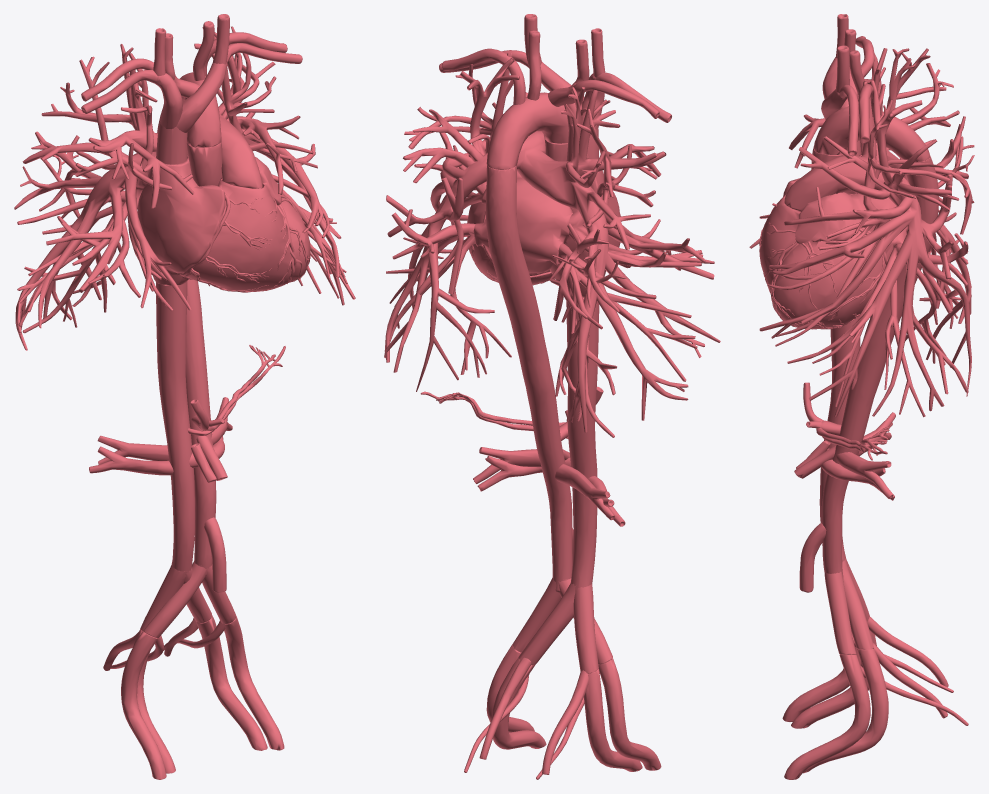
File: circulatorio.glb
3 views of the same model, side by side, from view 1: azimuth 30°, elevation 25°; view 2: azimuth 150°, elevation 25°; view 3: azimuth 270°, elevation 25° (orthographic). The views are drawn at different scales.
Parts seen in each view (by area): view 1: FMA66326, FMA7274, FMA66643, FMA10951, FMA3784, FMA18806, FMA18886, FMA18807, FMA4761, FMA14765, FMA3768, FMA3736 (+17 smaller); view 2: FMA66326, FMA66643, FMA3784, FMA7274, FMA10951, FMA3768, FMA18806, FMA18885, FMA21387, FMA21388, FMA18886, FMA4694 (+11 smaller); view 3: FMA66326, FMA66643, FMA7274, FMA3784, FMA18807, FMA3768, FMA18886, FMA10951, FMA14766, FMA21388, FMA18806, FMA18885 (+15 smaller).
Boxes of the visible parts, x1,y1,x2,y2 form: FMA66326: (14,27,355,350); FMA7274: (137,155,310,291); FMA66643: (17,26,346,333); FMA10951: (156,281,195,578); FMA3784: (157,110,216,575); FMA18806: (121,631,166,779); FMA18886: (196,616,267,750); FMA18807: (223,615,284,750); FMA4761: (176,63,227,132); FMA14765: (143,562,206,637); FMA3768: (179,72,221,147); FMA3736: (187,141,222,186); FMA66326: (384,58,720,432); FMA66643: (384,53,714,437); FMA3784: (486,165,572,592); FMA7274: (467,170,620,299); FMA10951: (566,299,599,592); FMA3768: (486,92,568,169); FMA18806: (598,658,661,770); FMA18885: (583,669,642,771); FMA21387: (573,584,598,673); FMA21388: (518,583,576,665); FMA18886: (491,657,546,749); FMA4694: (441,48,525,104); FMA66326: (749,48,974,416); FMA66643: (767,48,974,417); FMA7274: (759,151,906,329); FMA3784: (821,156,938,577); FMA18807: (784,654,870,779); FMA3768: (813,106,930,161); FMA18886: (803,648,888,773); FMA10951: (819,316,860,561); FMA14766: (824,571,856,654); FMA21388: (842,558,873,649); FMA18806: (782,647,860,721); FMA18885: (791,631,876,728).
Size of the model in its own units: 0.2479 by 0.5666 by 0.1611.
